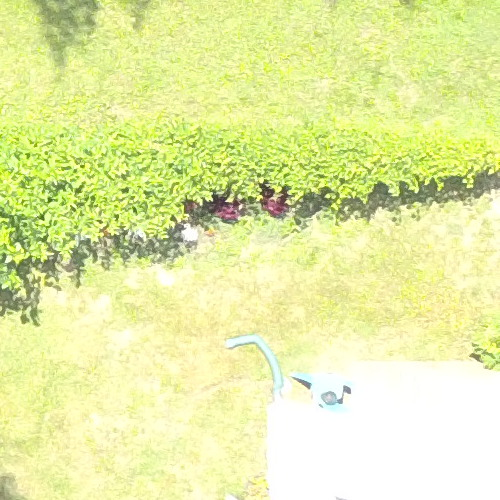container: (288, 357, 356, 416)
gutter: (226, 327, 291, 398)
